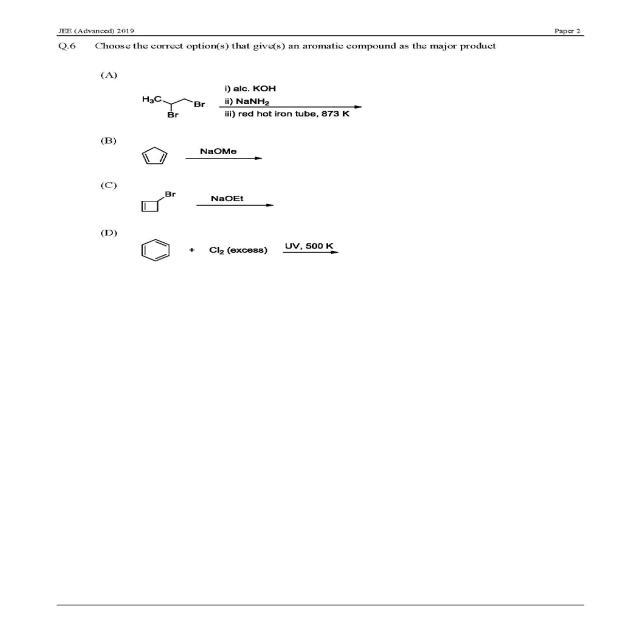Answer_Block: (38, 66, 618, 282)
Question_Block: (38, 37, 618, 68)
Question_Paper_Area: (38, 37, 618, 596)
